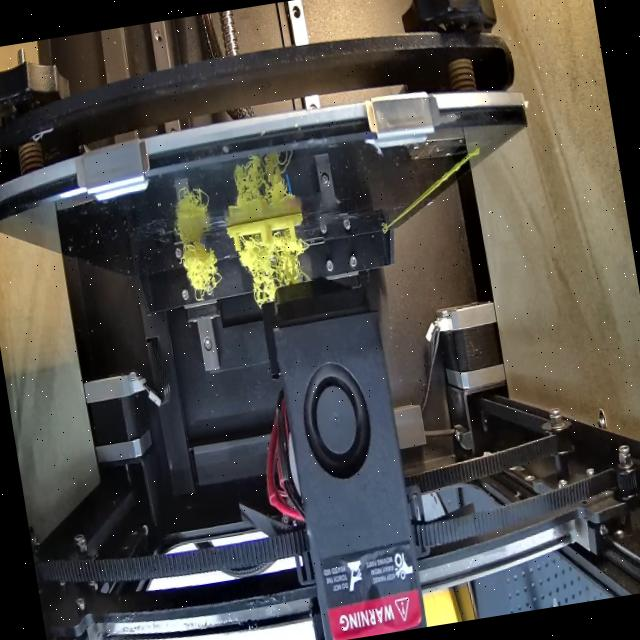spaghetti: (236, 230, 310, 304), (180, 236, 226, 302)
